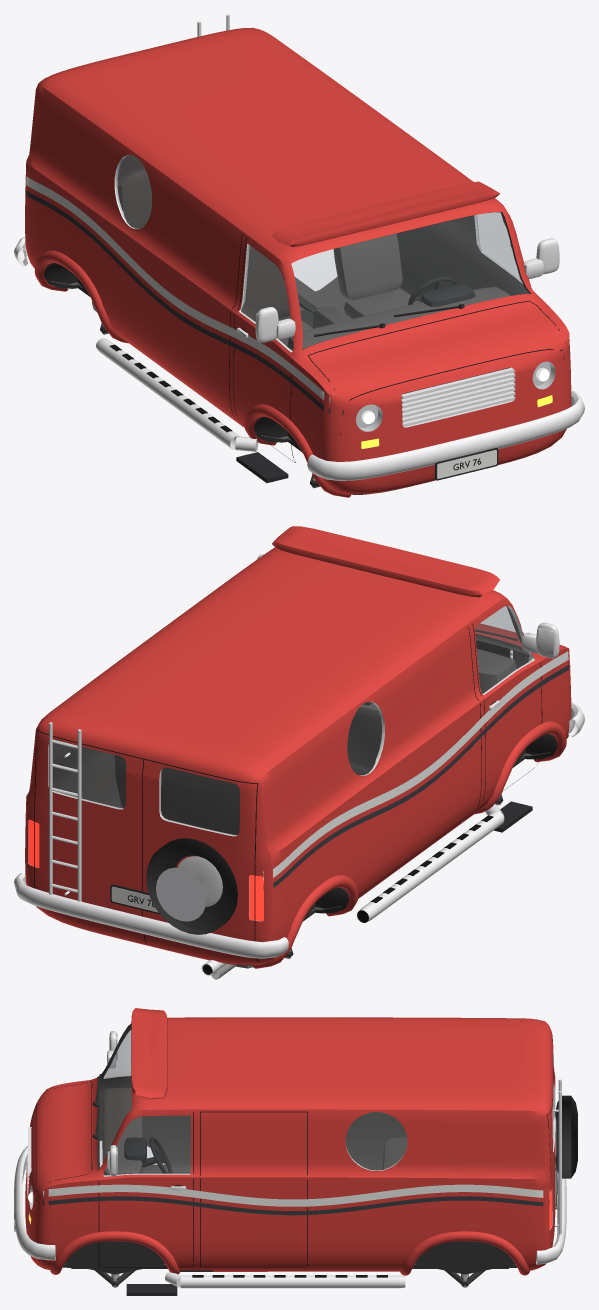
File: van.glb
3 renders of one model, top to bottom at view 1: azimuth 30°, elevation 25°; view 2: azimuth 150°, elevation 25°; view 3: azimuth 270°, elevation 25°, orthographic. The views are drawn at different scales.
Parts seen in each view (by area): view 1: Body, Glass_Front, Glass_F_R, Glass_Port_R, Glass_F_L; view 2: Body, Glass_Back_R, Glass_Back_L, Glass_F_R, Glass_Port_R, Glass_Front; view 3: Body, Glass_F_L, Glass_Port_L, Glass_Front, Glass_F_R.
Boxes of the visible parts, box(x1,y1,x2,y2) form: Body: box(14, 14, 584, 497); Glass_Front: box(291, 212, 529, 348); Glass_F_R: box(241, 244, 293, 350); Glass_Port_R: box(116, 155, 151, 228); Glass_F_L: box(477, 213, 521, 282); Body: box(14, 526, 584, 979); Glass_Back_R: box(160, 768, 239, 835); Glass_Back_L: box(53, 743, 125, 808); Glass_F_R: box(475, 606, 532, 693); Glass_Port_R: box(347, 702, 383, 775); Glass_Front: box(475, 606, 521, 647); Body: box(14, 1008, 577, 1295); Glass_F_L: box(104, 1116, 190, 1175); Glass_Port_L: box(346, 1112, 407, 1170); Glass_Front: box(98, 1025, 131, 1167); Glass_F_R: box(104, 1031, 130, 1077).
Size of the model in its own units: 2.52 by 2.01 by 4.96.
